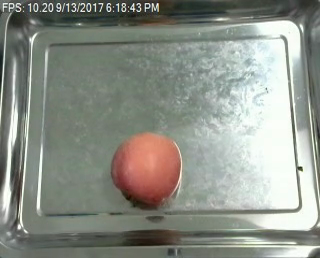Apple: (109, 130, 182, 208)
